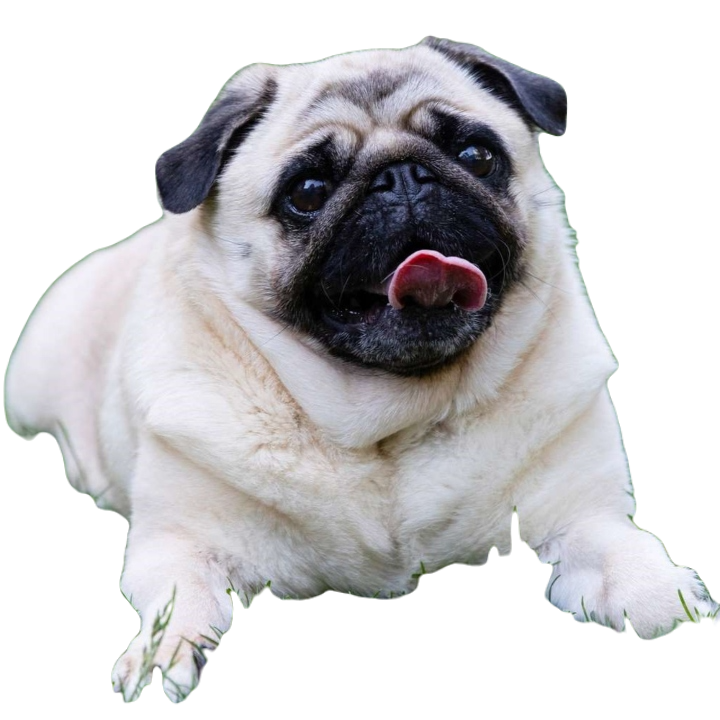Dog: (5, 35, 719, 704)
